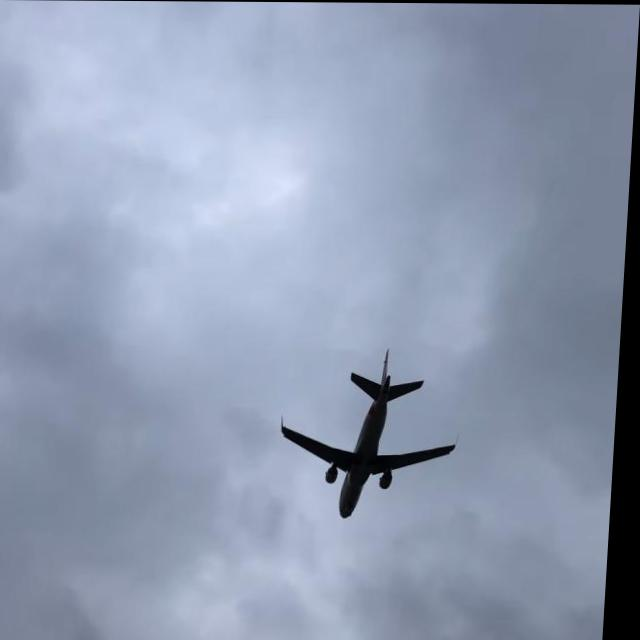airplane: (280, 346, 468, 519)
